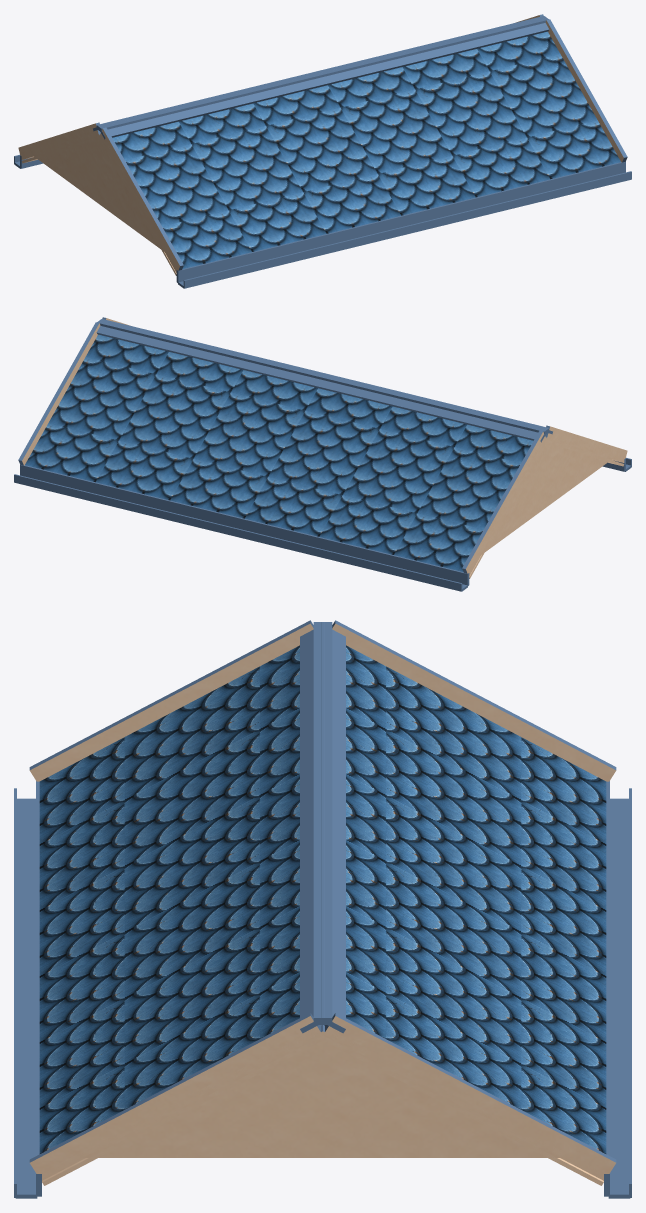
File: Roof_Gable_3x6.fbx
3 renders of one model, top to bottom at view 1: azimuth 30°, elevation 25°; view 2: azimuth 150°, elevation 25°; view 3: azimuth 270°, elevation 25°, orthographic. The views are drawn at different scales.
Parts seen in each view (by area): view 1: Roof_Gable_3x6; view 2: Roof_Gable_3x6; view 3: Roof_Gable_3x6.
Part boxes in pixels (left/top/right/bottom): Roof_Gable_3x6: left=14, top=14, right=631, bottom=288; Roof_Gable_3x6: left=14, top=317, right=631, bottom=591; Roof_Gable_3x6: left=14, top=620, right=631, bottom=1198.
Size of the model in its own units: 6 by 1.29 by 3.96.
Materials: 2 (2 with a texture image).
